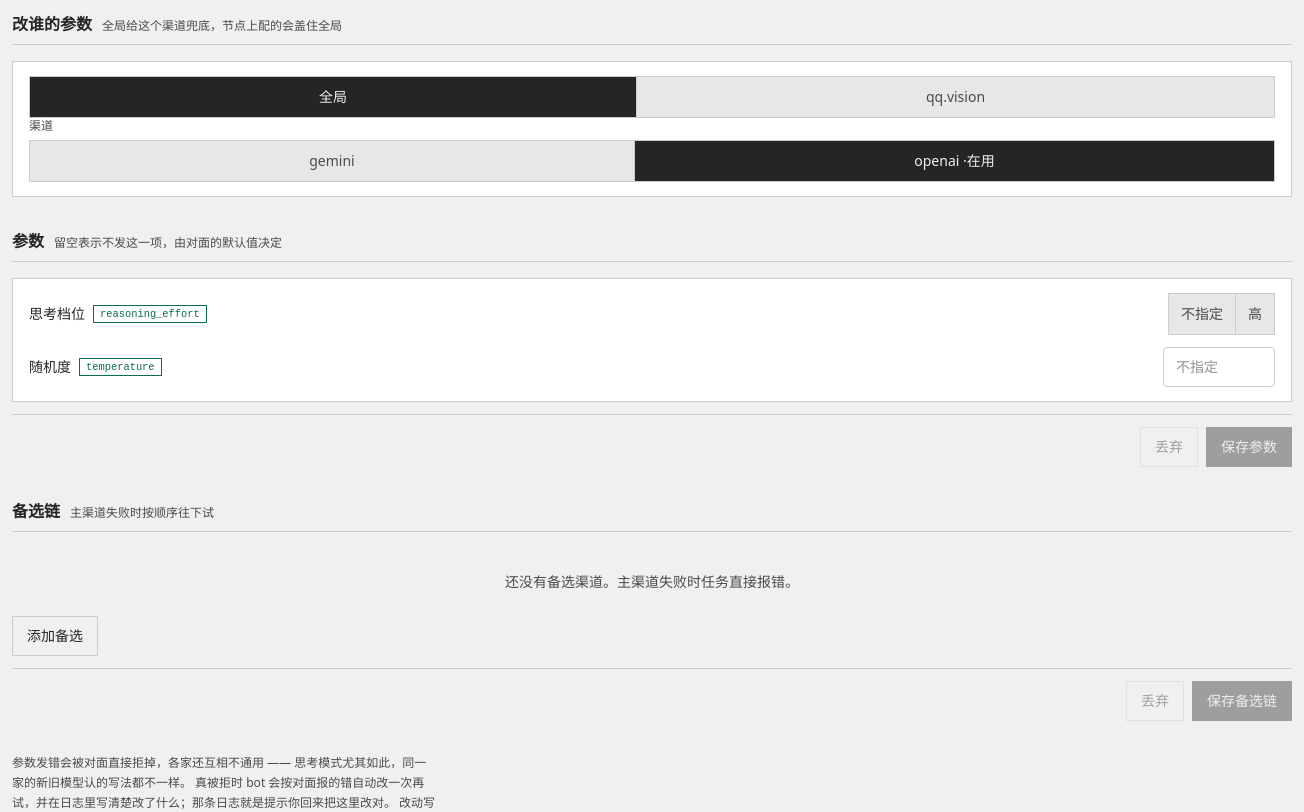
Test: 模型参数页 › 保存通过但带着提醒时，提醒接在结果后面
Click the button "高": (1254, 314) 1235,294 -> 1274,334
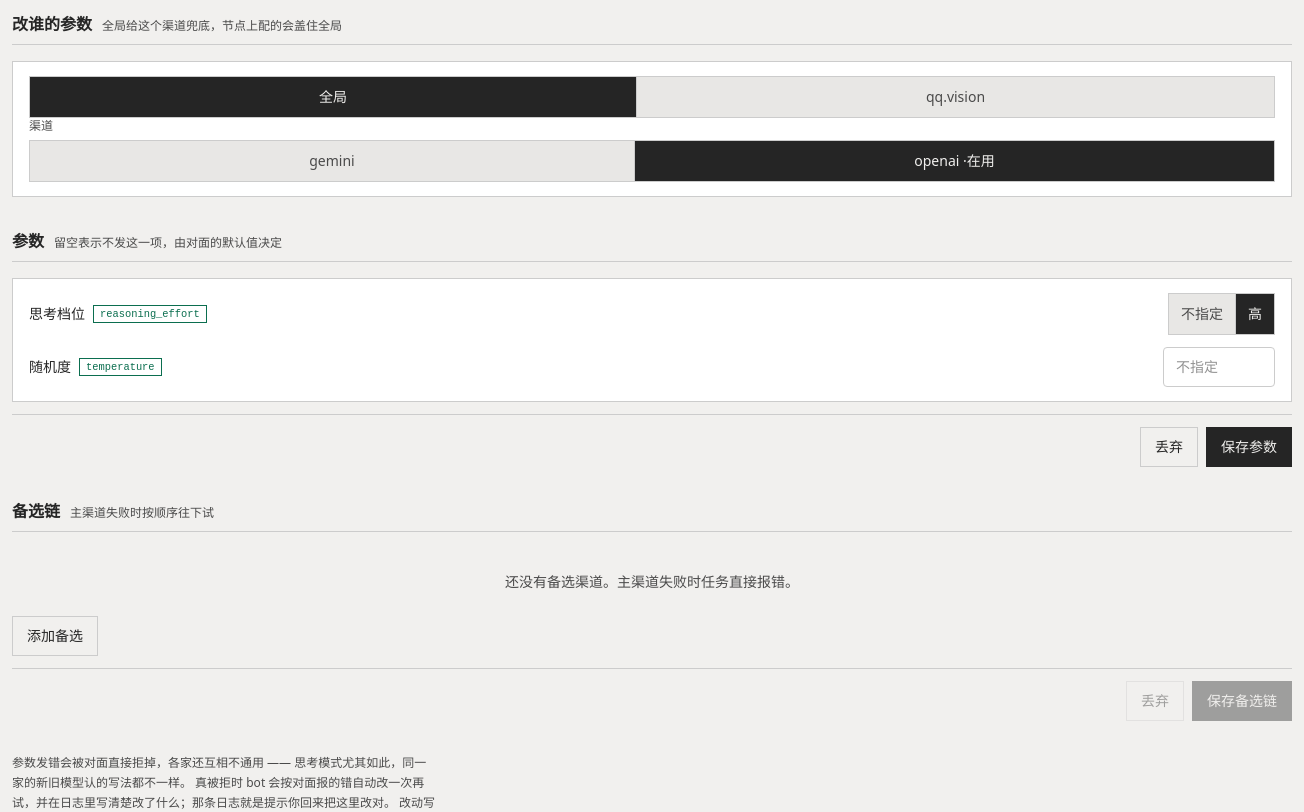
Click the button "保存参数": (1249, 447) 1206,427 -> 1292,467
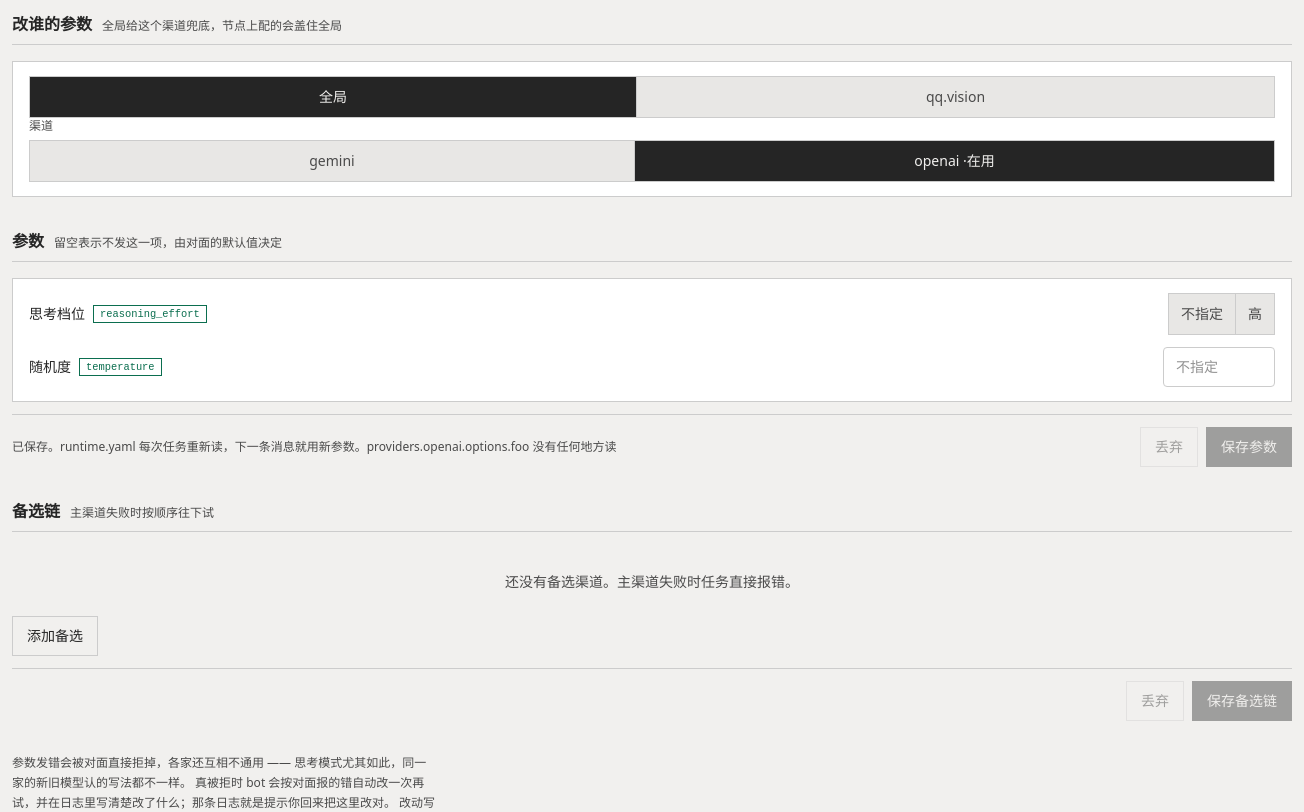
Expected: the text "已保存。runtime.yaml 每次任务重新读，下一条消息就用新参数。providers.openai.options.foo 没有任何地方读" is shown, 12,439 -> 616,455
